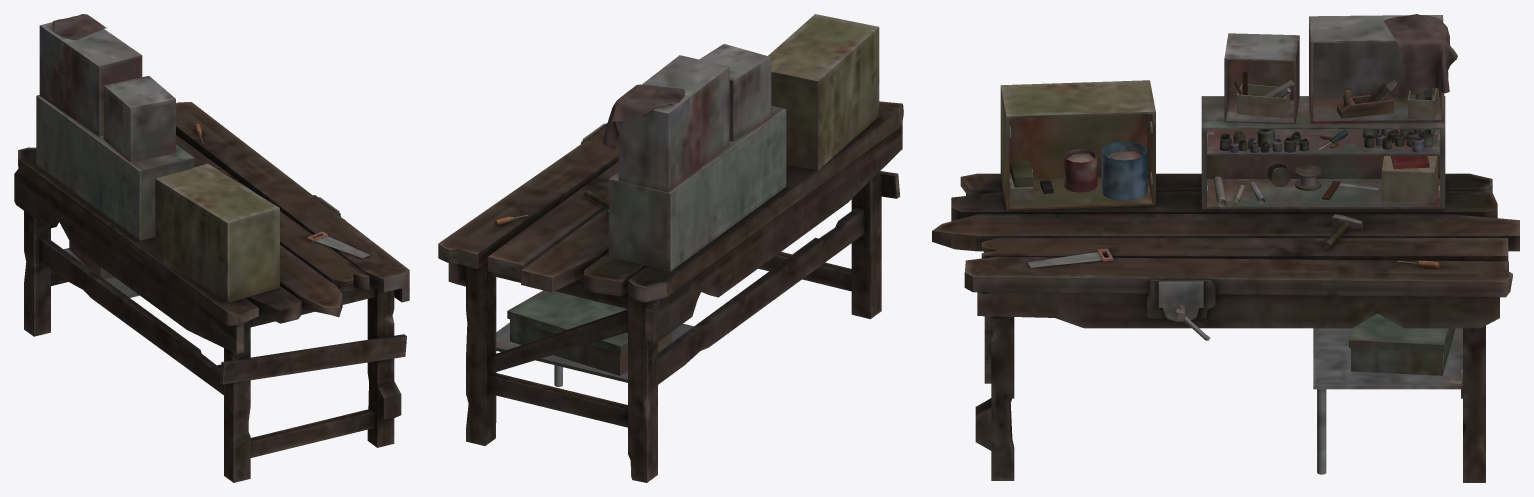
Rendered from SM_WorkBenchMedieval_bd4e8d.glb.
The picture shows the model from 3 angles, left to right: view 1: azimuth 30°, elevation 25°; view 2: azimuth 150°, elevation 25°; view 3: azimuth 270°, elevation 25°; orthographic projection. The views are drawn at different scales.
Bounding box in the file's own units: 1.17 × 1.76 × 2.47.
Materials: 2 (2 with a texture image).
